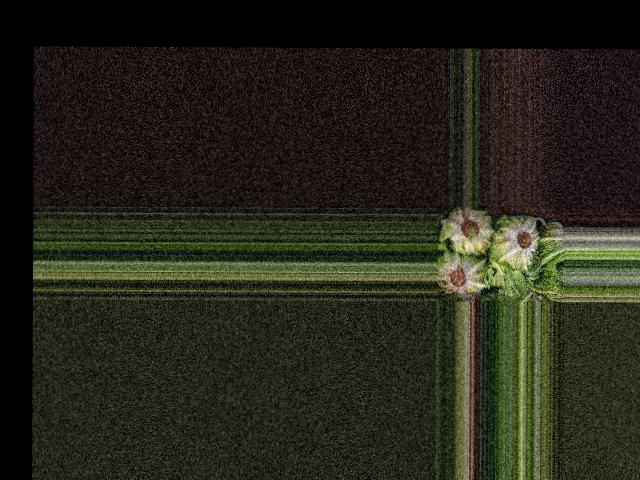lettuce: (436, 251, 487, 295)
